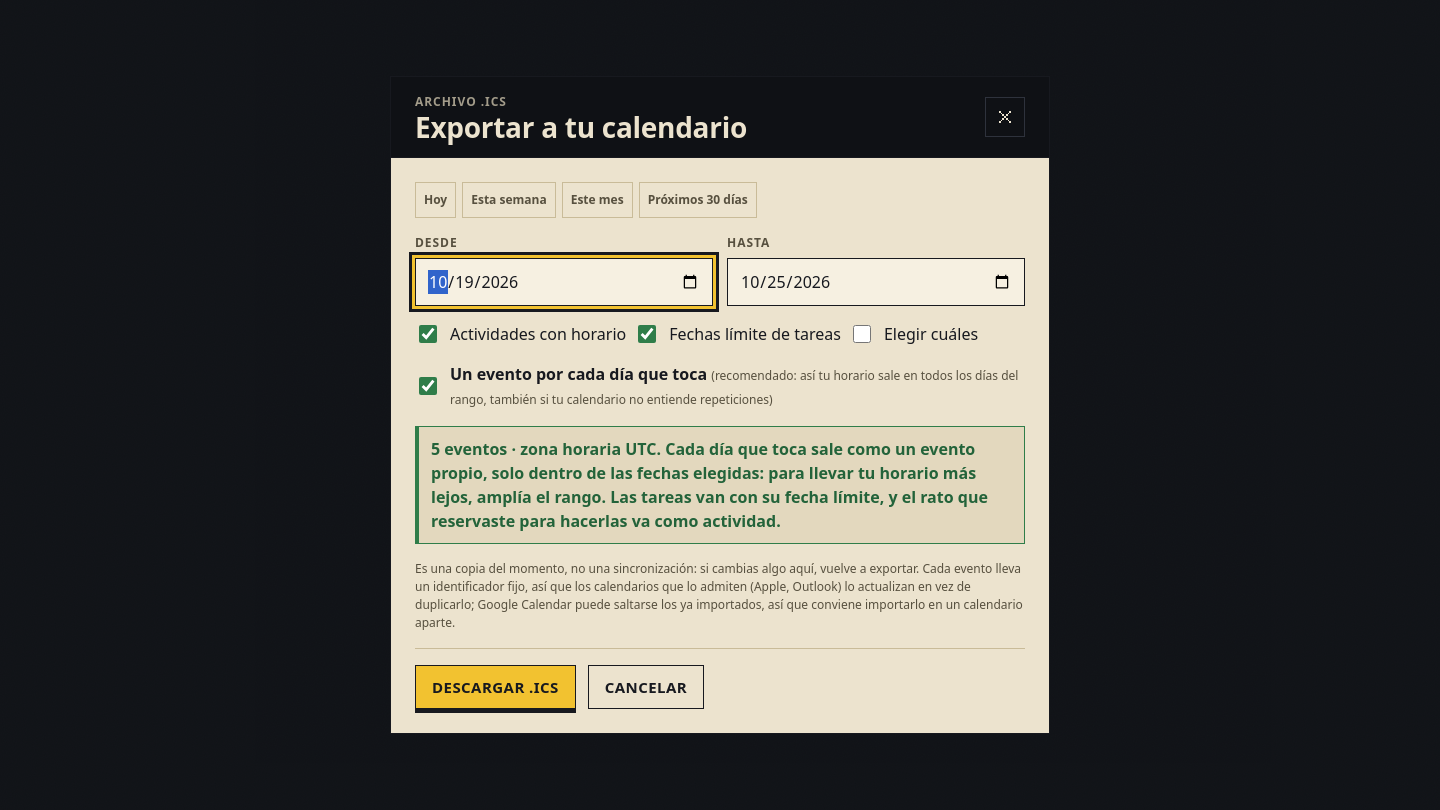
Test: Exportar a tu calendario › se puede volver a la regla de repetición: entonces es un solo evento
This screenshot has width=1440, height=810.
Click the checkbox labelled "Un evento por cada día que toca".
click(428, 386)  # box [419,377,437,395]
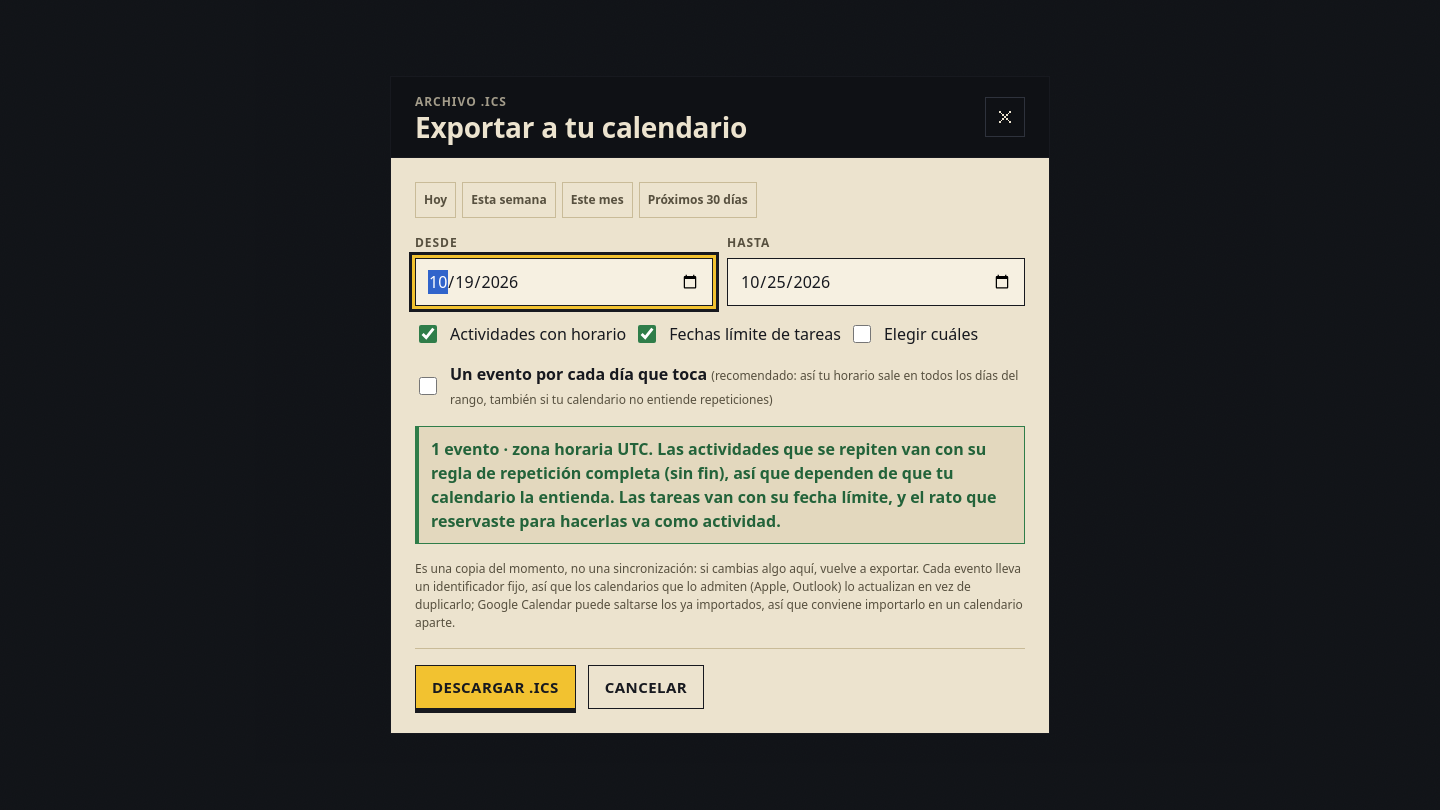
Expected: the text "1 evento " is shown, [431,438,653,460]
Expected: the text "regla de repetición completa" is shown, [431,438,986,508]
